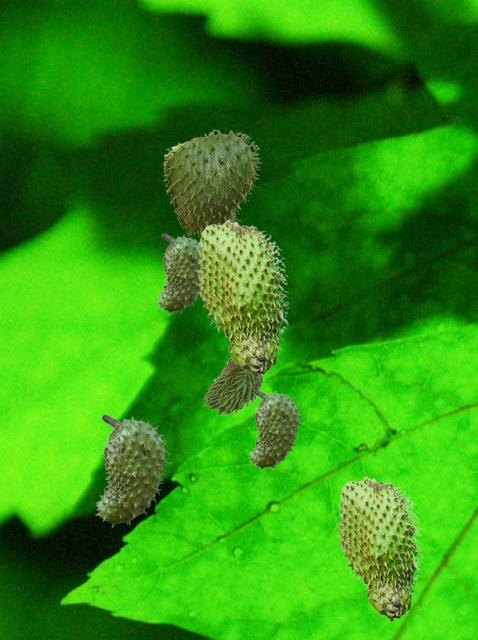guyabano: (195, 219, 289, 377), (336, 476, 422, 621), (163, 129, 261, 238), (94, 414, 171, 527), (248, 389, 303, 470), (156, 233, 200, 314), (203, 358, 263, 414)
